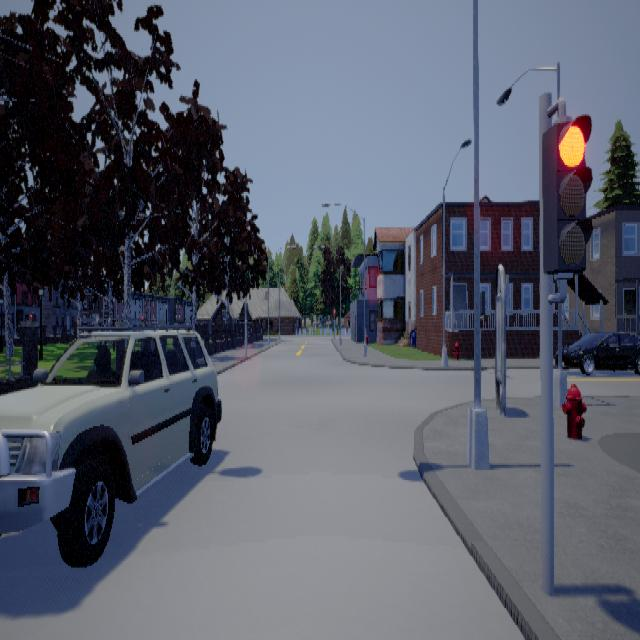red_light: (541, 96, 592, 303)
vehicle: (0, 317, 221, 566), (561, 330, 639, 374)
